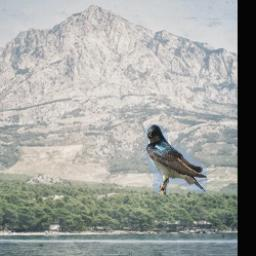Swallow: (145, 125, 207, 196)
